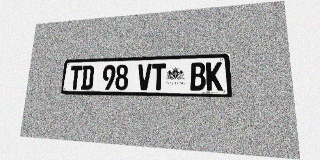8: (115, 64, 129, 90)
9: (102, 65, 116, 90)
B: (190, 62, 206, 91)
D: (81, 65, 94, 90)
K: (206, 62, 223, 91)
T: (151, 63, 166, 90), (69, 66, 82, 90)
V: (137, 64, 152, 90)
